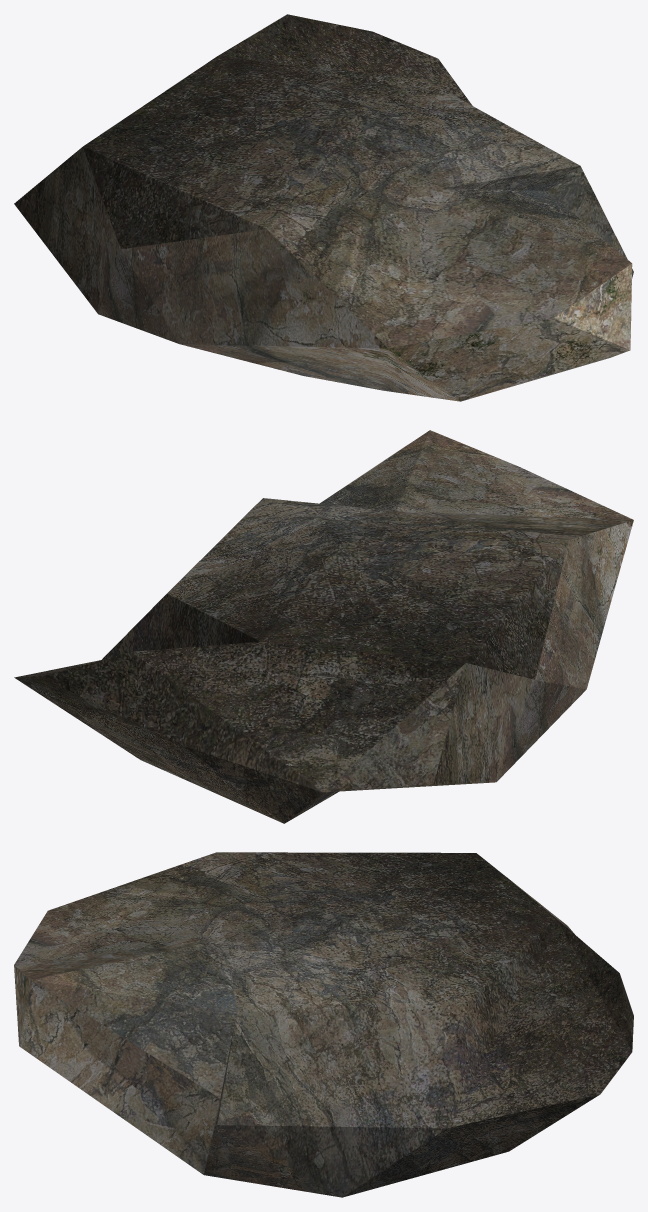
The model's file is rockgranite01c.glb.
The picture shows the model from 3 angles, top to bottom: view 1: azimuth 30°, elevation 25°; view 2: azimuth 150°, elevation 25°; view 3: azimuth 270°, elevation 25°; orthographic projection. The views are drawn at different scales.
Parts seen in each view (by area): view 1: rockgranite01c; view 2: rockgranite01c; view 3: rockgranite01c.
Boxes of the visible parts, box(x1,y1,x2,y2) form: rockgranite01c: box(14, 14, 633, 401); rockgranite01c: box(14, 430, 633, 823); rockgranite01c: box(14, 852, 633, 1197).
Bounding box in the file's own units: 3.01 × 1.49 × 4.15.
1 material, 1 textured.
